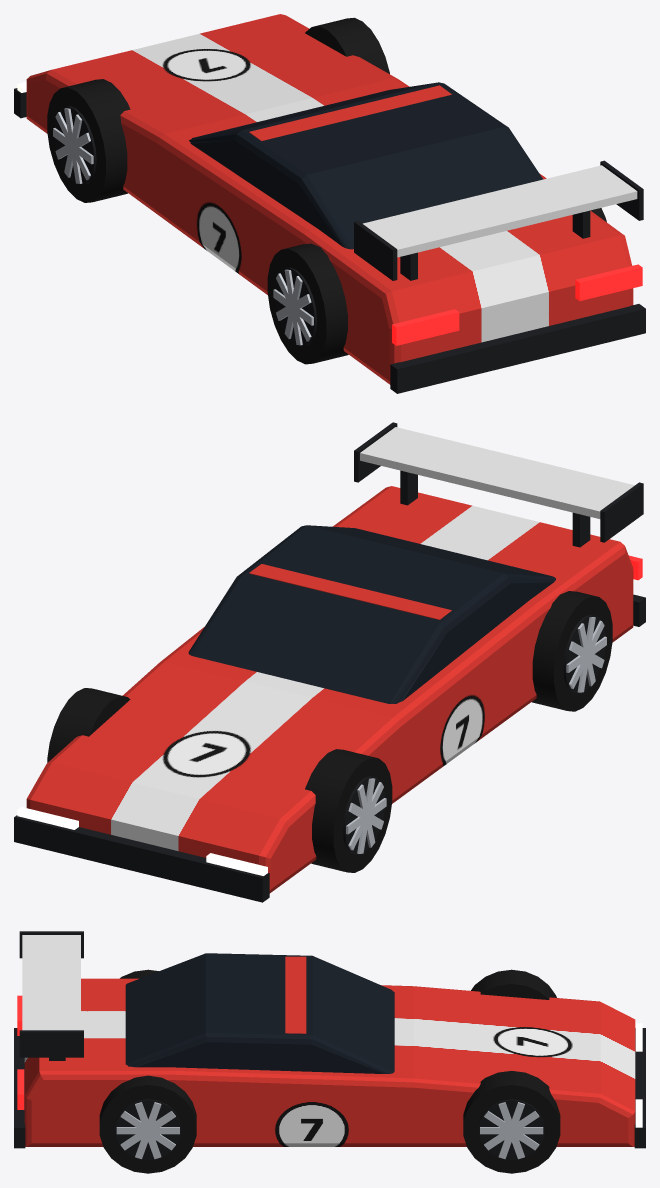
The model's file is RedFury_godot_-z.glb.
The picture shows the model from 3 angles, top to bottom: view 1: azimuth 30°, elevation 25°; view 2: azimuth 150°, elevation 25°; view 3: azimuth 270°, elevation 25°; orthographic projection. The views are drawn at different scales.
Parts seen in each view (by area): view 1: BodyShell, Glass, Tire (×3), Spoiler, BumperRear, Taillight (×2), Wheel_FL_Spin, Wheel_RL_Spin, Roof, Endplate (×2); view 2: BodyShell, Glass, Tire (×3), Spoiler, BumperFront, Roof, Wheel_RL_Spin, Wheel_FL_Spin, Endplate (×2); view 3: BodyShell, Glass, Tire (×3), Spoiler, Wheel_FR_Spin, Wheel_RR_Spin, Endplate (×2), Roof, BumperFront, BumperRear.
Boxes of the visible parts, left/top/right/bottom form: BodyShell: left=26, top=14, right=633, bottom=384; Glass: left=189, top=82, right=543, bottom=249; Tire (×3): left=47, top=17, right=389, bottom=364; Spoiler: left=363, top=165, right=637, bottom=257; BumperRear: left=390, top=304, right=645, bottom=393; Taillight (×2): left=392, top=264, right=642, bottom=345; Wheel_FL_Spin: left=53, top=106, right=96, bottom=185; Wheel_RL_Spin: left=273, top=267, right=317, bottom=346; Roof: left=249, top=85, right=451, bottom=140; Endplate (×2): left=354, top=160, right=643, bottom=280; BodyShell: left=26, top=486, right=633, bottom=893; Glass: left=188, top=525, right=555, bottom=703; Tire (×3): left=47, top=591, right=612, bottom=872; Spoiler: left=360, top=427, right=634, bottom=518; BumperFront: left=14, top=815, right=269, bottom=902; Roof: left=249, top=564, right=451, bottom=619; Wheel_RL_Spin: left=563, top=614, right=606, bottom=693; Wheel_FL_Spin: left=342, top=776, right=386, bottom=855; Endplate (×2): left=354, top=422, right=643, bottom=542; BodyShell: left=24, top=978, right=635, bottom=1146; Glass: left=125, top=953, right=394, bottom=1073; Tire (×3): left=99, top=969, right=560, bottom=1173; Spoiler: left=22, top=935, right=80, bottom=1030; Wheel_FR_Spin: left=478, top=1099, right=544, bottom=1160; Wheel_RR_Spin: left=115, top=1099, right=181, bottom=1160; Endplate (×2): left=19, top=931, right=83, bottom=1057; Roof: left=285, top=956, right=306, bottom=1033; BumperFront: left=634, top=1028, right=645, bottom=1148; BumperRear: left=14, top=1028, right=25, bottom=1148.
Size of the model in its own units: 2.01 by 1.06 by 4.52.
9 materials, 1 textured.
